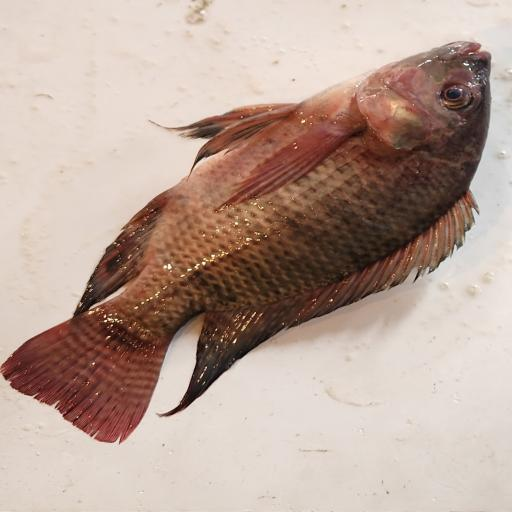Tilapia: (0, 41, 494, 445)
